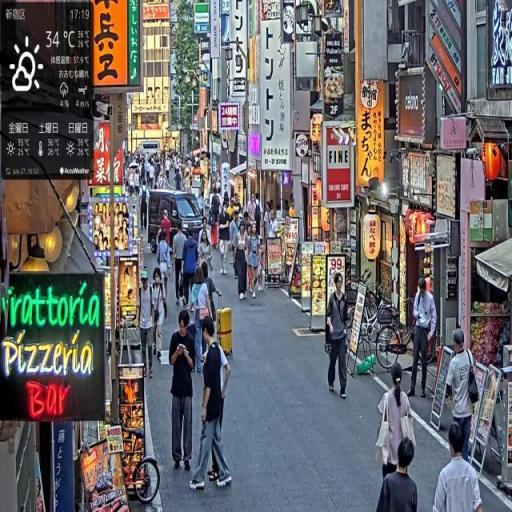person: (188, 317, 234, 494), (376, 361, 416, 487), (443, 331, 481, 462), (168, 307, 196, 476), (433, 424, 485, 512), (408, 275, 439, 400), (327, 272, 352, 400), (377, 438, 419, 512), (137, 271, 156, 382), (152, 269, 169, 363), (182, 224, 200, 312), (156, 230, 174, 310), (172, 221, 188, 309), (234, 219, 250, 302), (247, 223, 263, 300)
